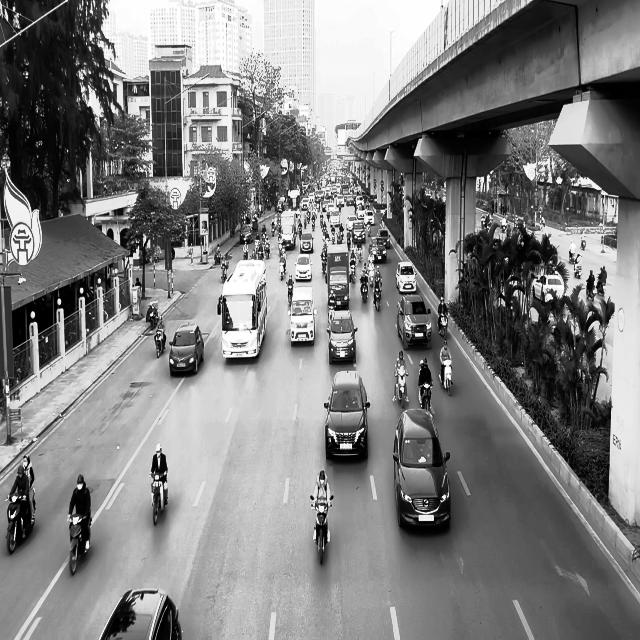bus: (218, 258, 267, 360)
car: (392, 407, 451, 529), (98, 588, 182, 639), (324, 369, 370, 460), (396, 294, 432, 350), (168, 322, 204, 376), (327, 309, 358, 364), (288, 286, 316, 346), (532, 272, 567, 306), (395, 261, 417, 293), (294, 254, 313, 281)
motorbike: (6, 488, 35, 554), (310, 494, 333, 564), (68, 512, 92, 576), (149, 472, 168, 526), (394, 369, 408, 408), (418, 380, 433, 416), (440, 358, 453, 396), (154, 328, 166, 358), (438, 313, 448, 339), (573, 254, 582, 278), (286, 280, 293, 306)
